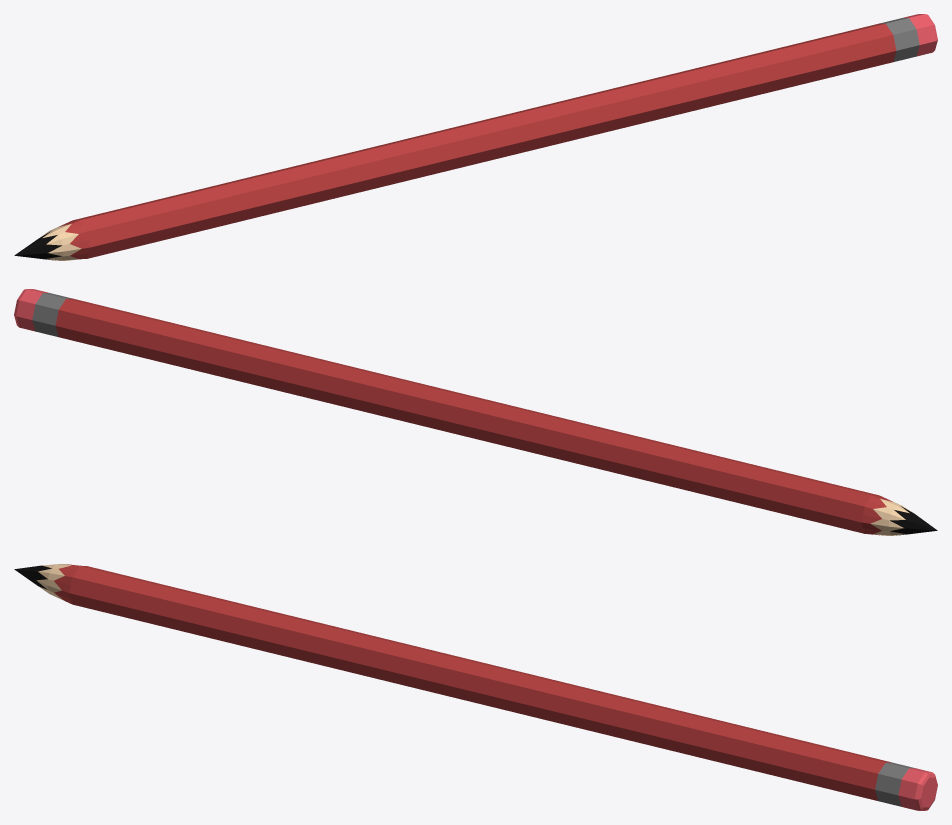
File: Pencil_red.fbx
3 renders of one model, top to bottom at view 1: azimuth 30°, elevation 25°; view 2: azimuth 150°, elevation 25°; view 3: azimuth 330°, elevation 25°, orthographic.
Parts seen in each view (by area): view 1: Cone.003; view 2: Cone.003; view 3: Cone.003.
Boxes of the visible parts, x1,y1,x2,y2 form: Cone.003: (14,14,937,260); Cone.003: (14,289,937,535); Cone.003: (14,564,937,810).
Bounding box in the file's own units: 14.99 × 0.6062 × 0.6062.
